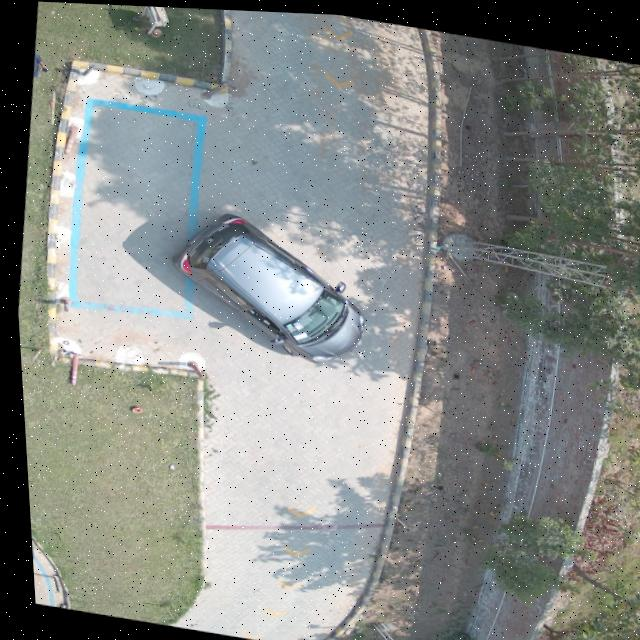car: (170, 211, 360, 360)
